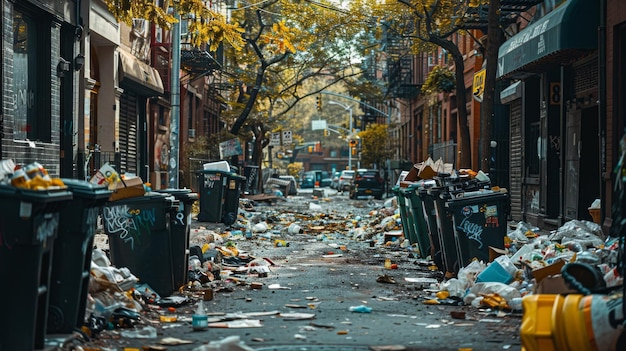partial: (349, 171, 386, 200)
